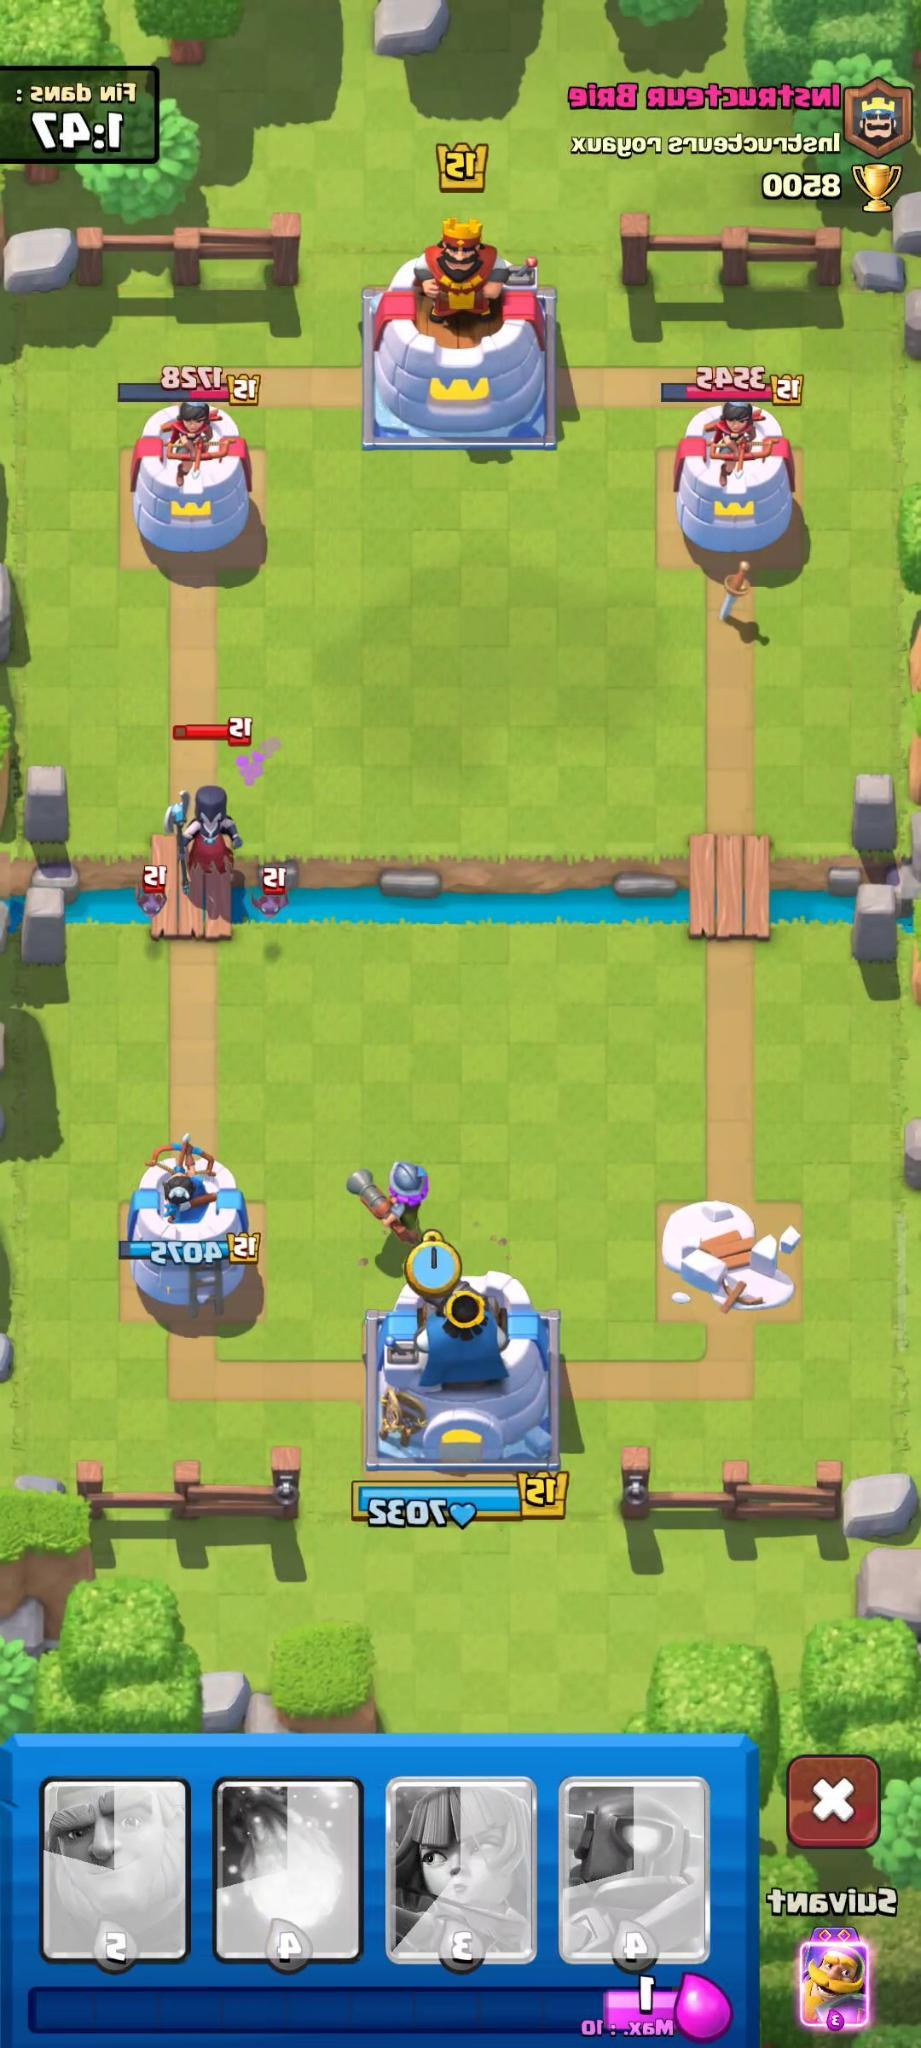enemy_bats: (182, 829, 248, 886), (242, 865, 299, 922), (129, 866, 177, 925), (215, 719, 267, 768)
enemy_night_witch: (157, 719, 259, 858)
player_musketeer: (343, 1141, 438, 1249)
